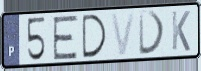5: (26, 15, 47, 63)
D: (137, 10, 167, 57), (81, 13, 109, 60)
E: (52, 13, 80, 62)
K: (170, 10, 192, 53)
V: (109, 11, 137, 58)
